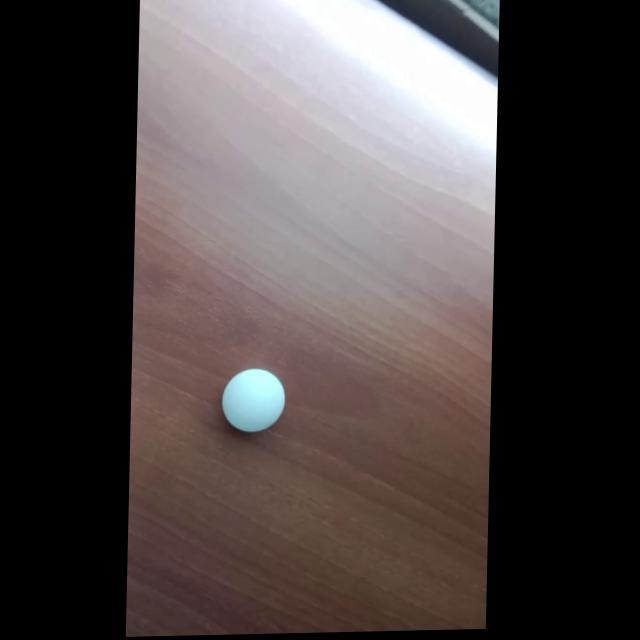white ball: (220, 367, 286, 433)
